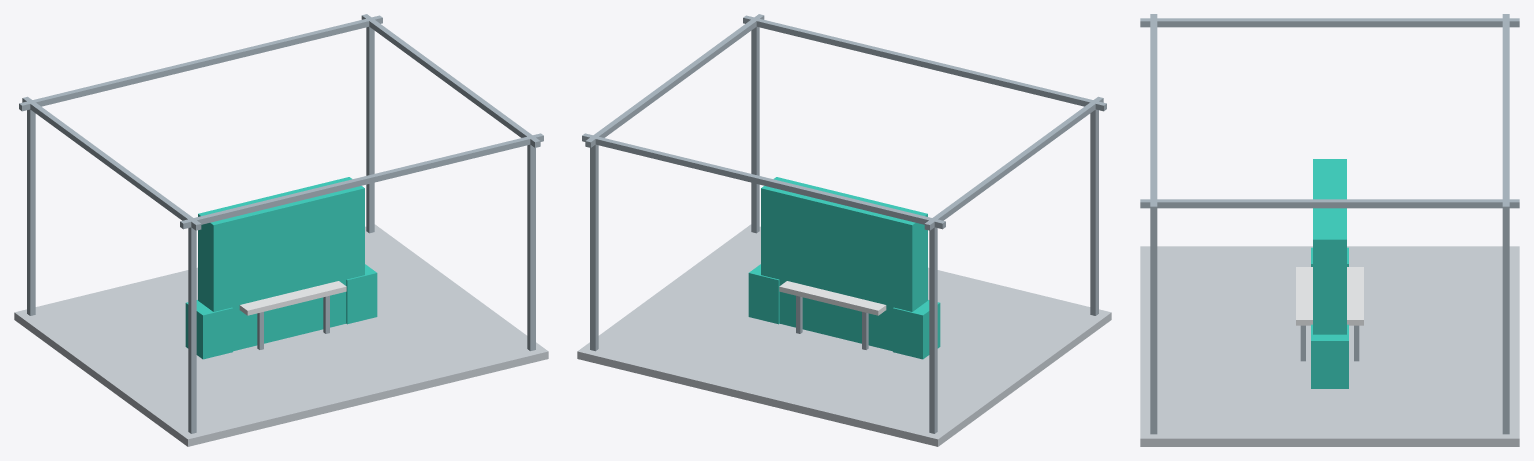
3 views of the same model, side by side, from view 1: azimuth 30°, elevation 25°; view 2: azimuth 150°, elevation 25°; view 3: azimuth 270°, elevation 25° (orthographic). The views are drawn at different scales.
Visible parts, largest first — view 1: Exhibition Booth Concept; view 2: Exhibition Booth Concept; view 3: Exhibition Booth Concept.
Boxes of the visible parts, <box> form: Exhibition Booth Concept: <box>14,14,548,446</box>; Exhibition Booth Concept: <box>577,14,1111,446</box>; Exhibition Booth Concept: <box>1140,14,1519,446</box>.
Size of the model in its own units: 6 by 3.49 by 5.
